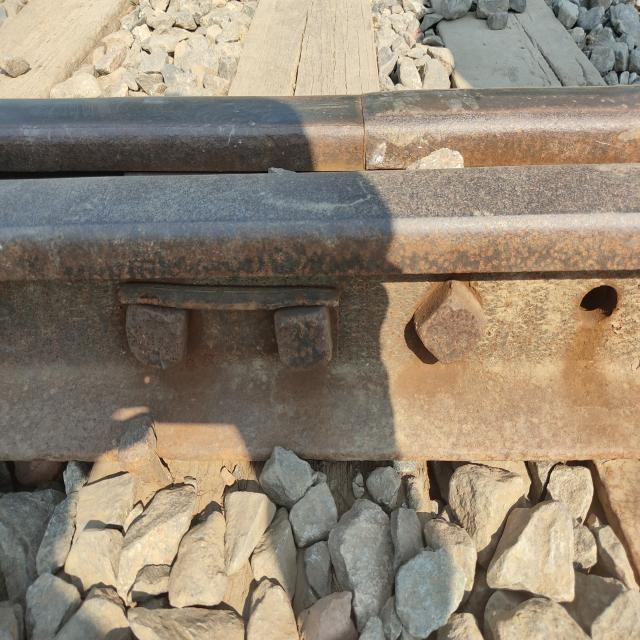Faults: (573, 278, 629, 342)
